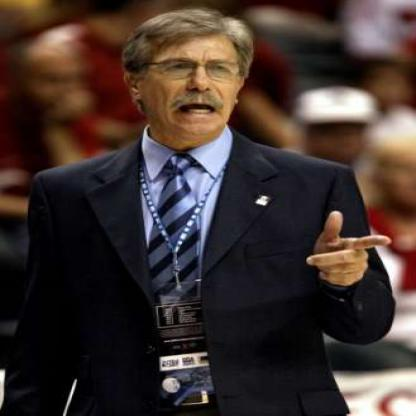face: (138, 15, 248, 139), (306, 94, 372, 162)
